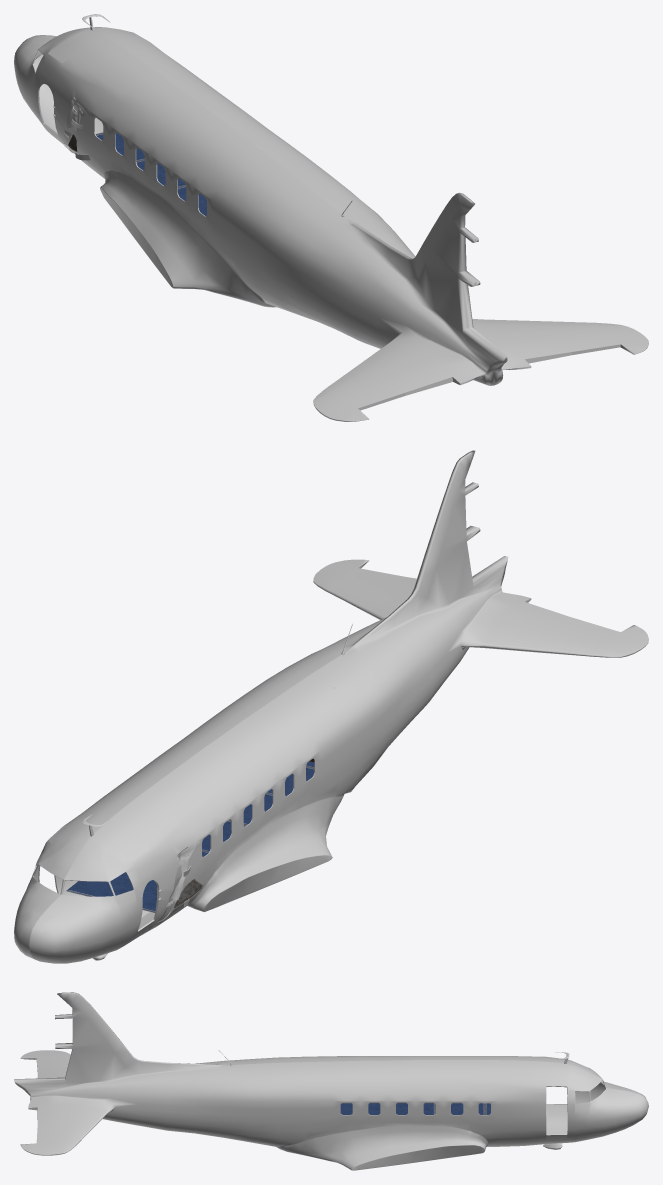
Rendered from plane_wreckage_fuselage_main.dae.
3 views of the same model, one above another, from view 1: azimuth 30°, elevation 25°; view 2: azimuth 150°, elevation 25°; view 3: azimuth 270°, elevation 25° (orthographic). The views are drawn at different scales.
Visible parts, largest first — view 1: plane_wreckage_fuselage_main, plane_interior_floor; view 2: plane_wreckage_fuselage_main, plane_interior_floor; view 3: plane_wreckage_fuselage_main, plane_interior_floor.
Boxes of the visible parts, x1=… form: plane_wreckage_fuselage_main: x1=14, y1=27, x2=648, y2=421; plane_interior_floor: x1=95, y1=132, x2=206, y2=215; plane_wreckage_fuselage_main: x1=14, y1=450, x2=648, y2=963; plane_interior_floor: x1=66, y1=761, x2=314, y2=912; plane_wreckage_fuselage_main: x1=14, y1=992, x2=648, y2=1170; plane_interior_floor: x1=340, y1=1103, x2=490, y2=1114.
Bounding box in the file's own units: 1118 × 783 × 2873.
